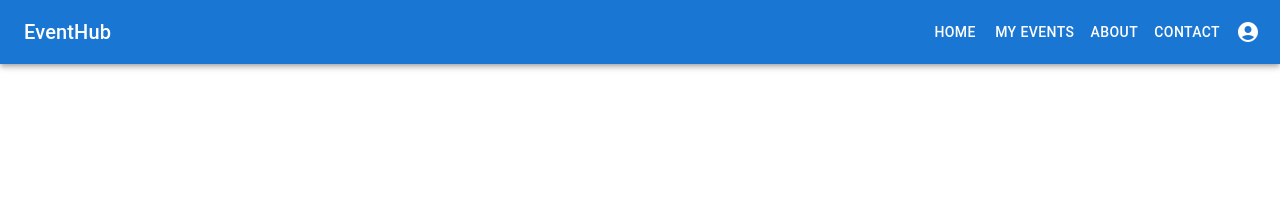
Test: Header component › renders Header component
The width and height of the screenshot is (1280, 206).
Expected: the heading "EventHub" is shown, [24,20,111,44]
Note: Simulate clicking the account icon button
Click the button named "account of current user" at [1248, 32], box [1228,12,1268,52]
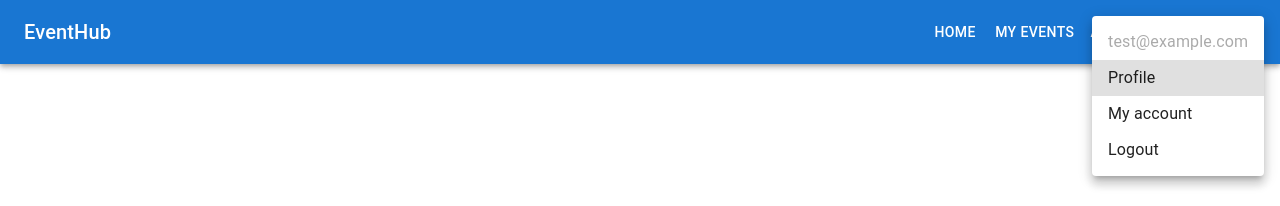
Result: the menu item "test@example.com" is shown at [1108,32,1248,51]
Result: the menu item "Profile" is shown
Result: the menu item "My account" is shown at [1108,104,1192,123]
Note: Simulate closing the menu
Click the menu item "Profile" at [1178, 78], box [1092,60,1264,96]
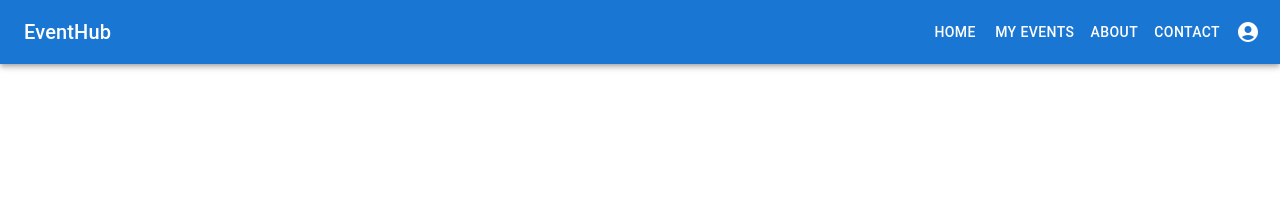
Result: the menu item "test@example.com" is gone
Result: the menu item "Profile" is gone
Result: the menu item "My account" is gone
